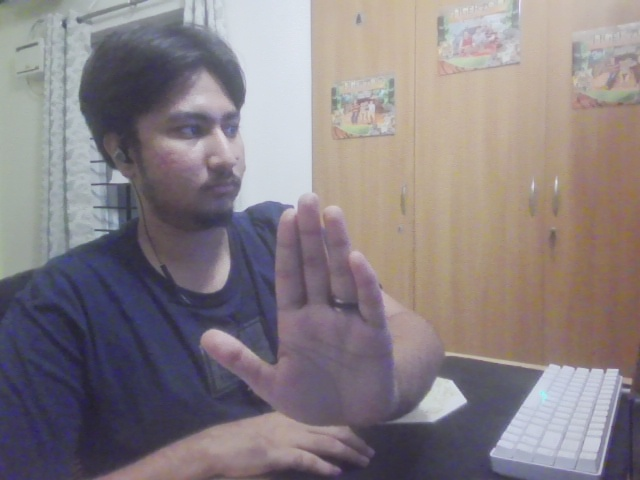hello: (198, 190, 398, 430)
